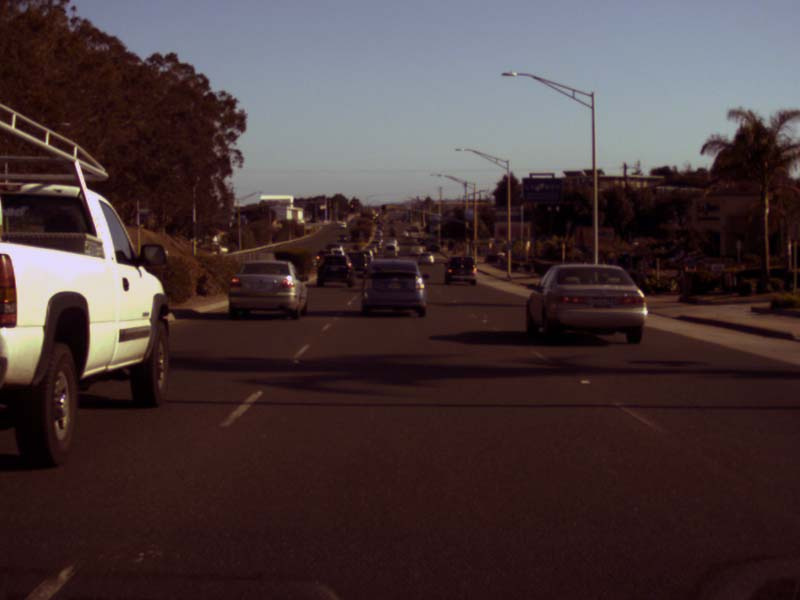Green: (380, 204, 387, 215)
Red: (349, 202, 355, 211)
